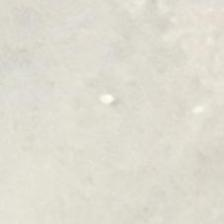Non_Crack: (32, 42, 224, 189)
